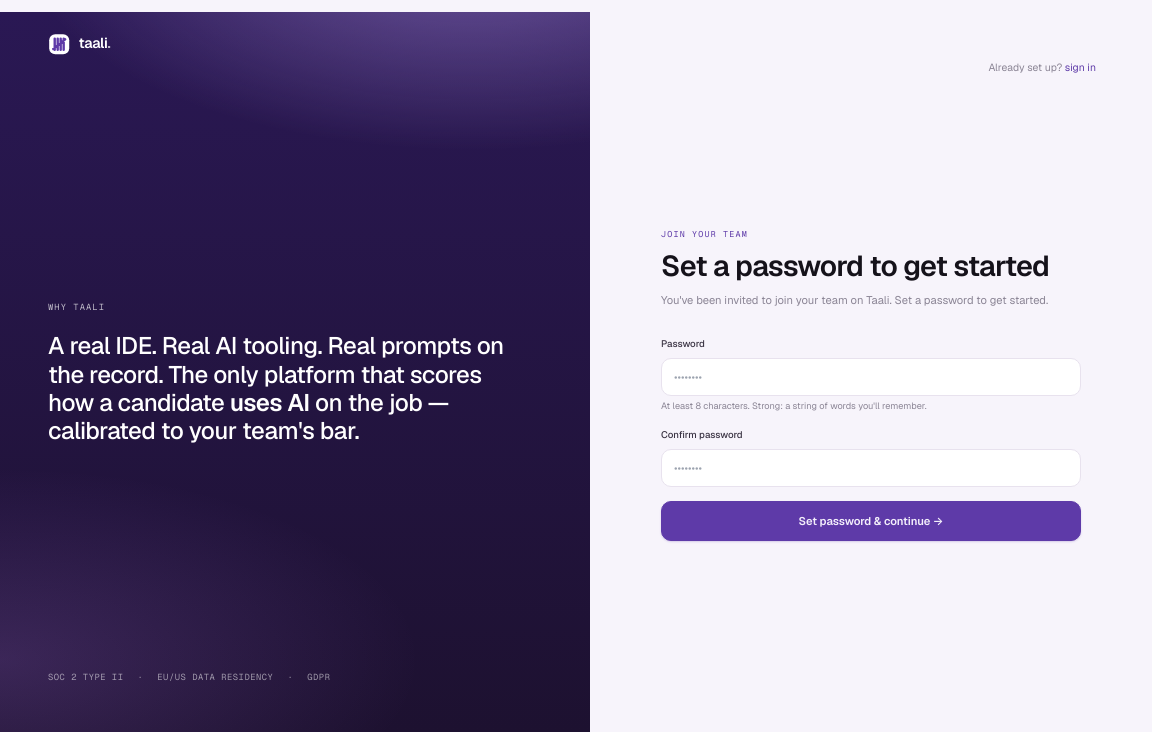
Test: Auth page redesign › shows the invalid-token error message when the invite is expired
Type "password123" into the password field with placeholder "••••••••".
click(871, 377); type("password123")  # box [661,358,1081,396]
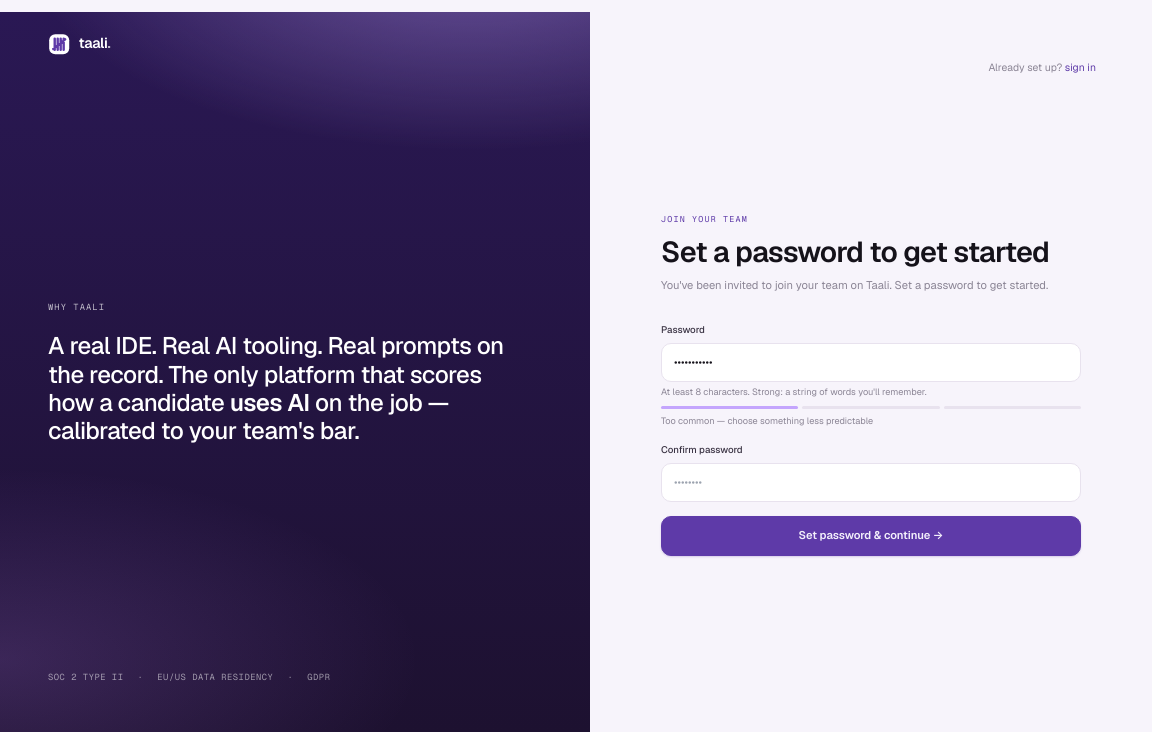
Type "password123" into the password field with placeholder "••••••••".
click(871, 482); type("password123")  # box [661,463,1081,502]
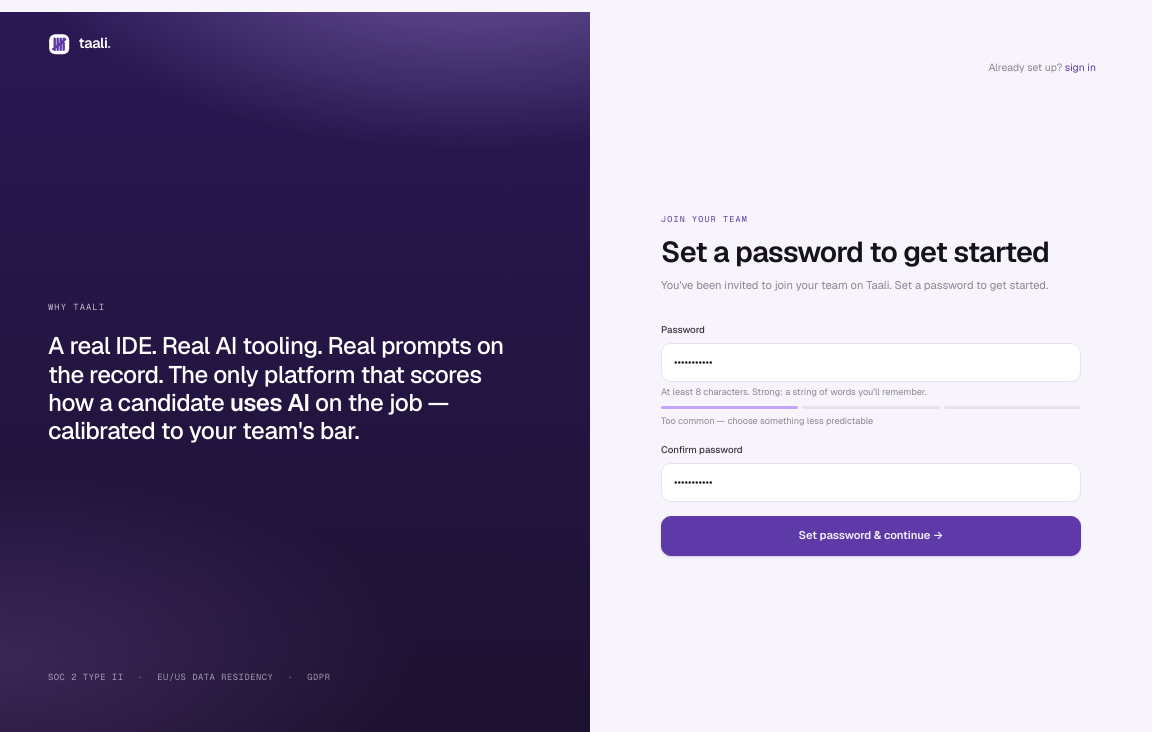
Click the button "Set password & continue →".
click(871, 536)  # box [661,516,1081,556]
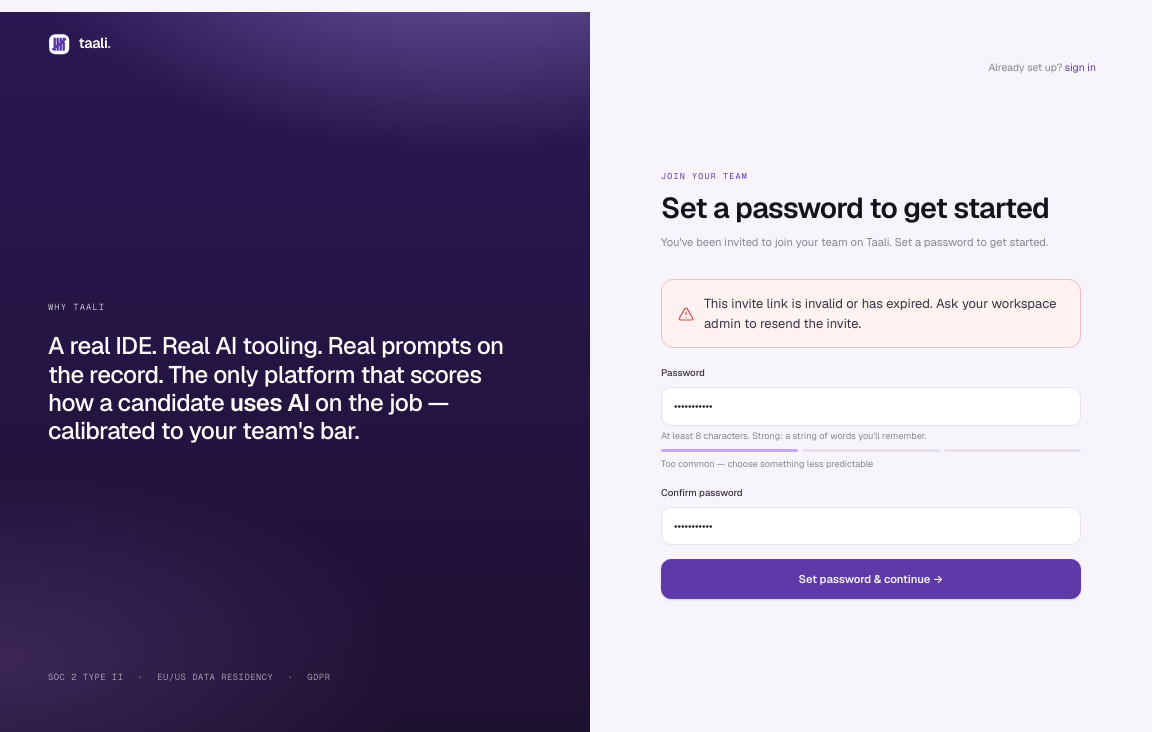
Now the text "This invite link is invalid or has expired" is shown, box [704,295,1056,332]
